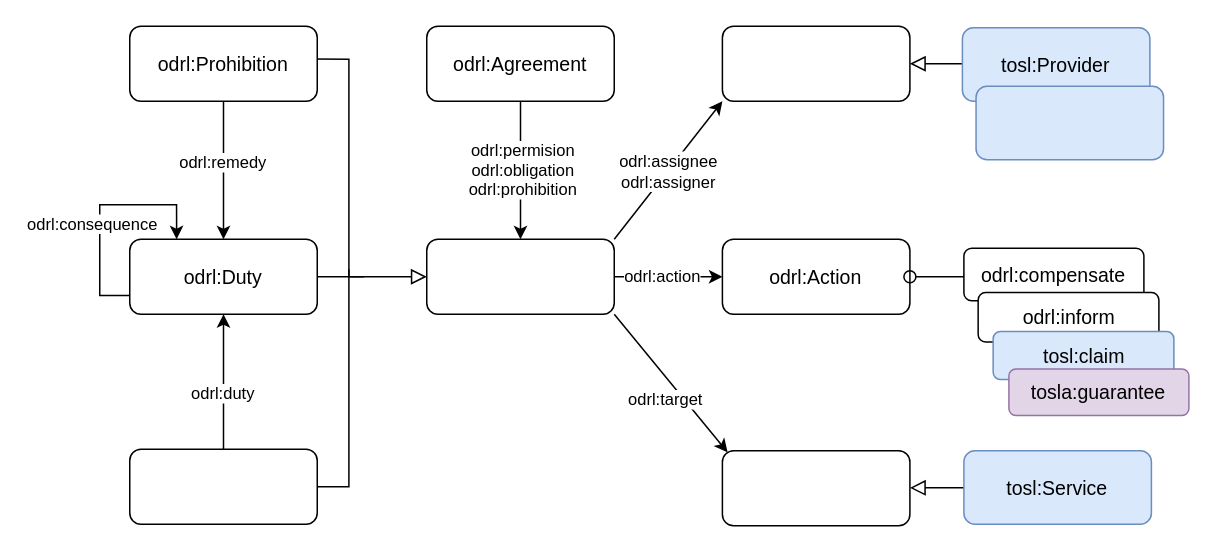
Image size: 1215x552. Some labels were removed from this diagram. Here are the shapes that lost their labels. From the top down, the centre of each, then its label:
At [815,63]: "odrl:Party".
At [1069,122]: "tosl:Customer".
At [519,276]: "odrl:Rule".
At [222,486]: "odrl:Permission".
At [815,487]: "odrl:Asset".
